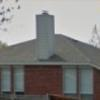chimneys: (36, 10, 55, 60)
